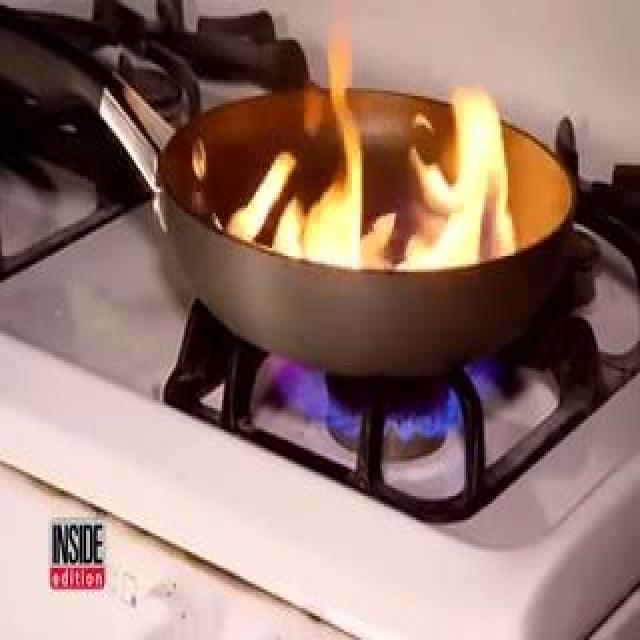Fire: (191, 44, 529, 279)
